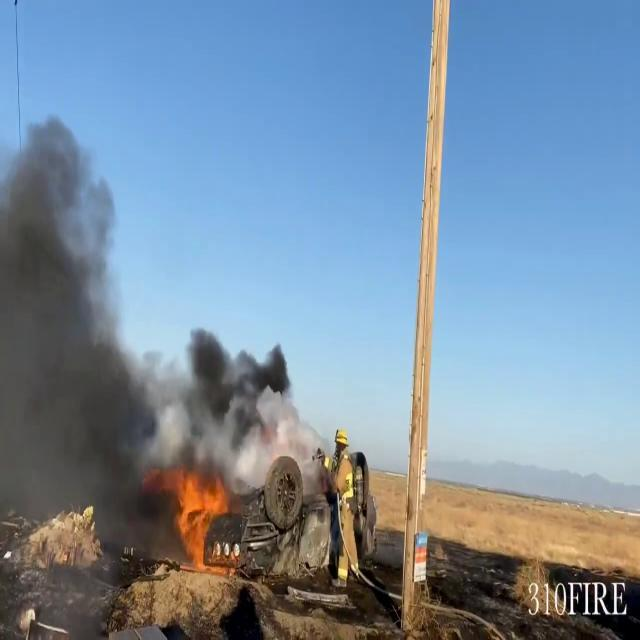Fire: (163, 465, 237, 572)
Smoke: (0, 109, 141, 536), (130, 317, 308, 475)
